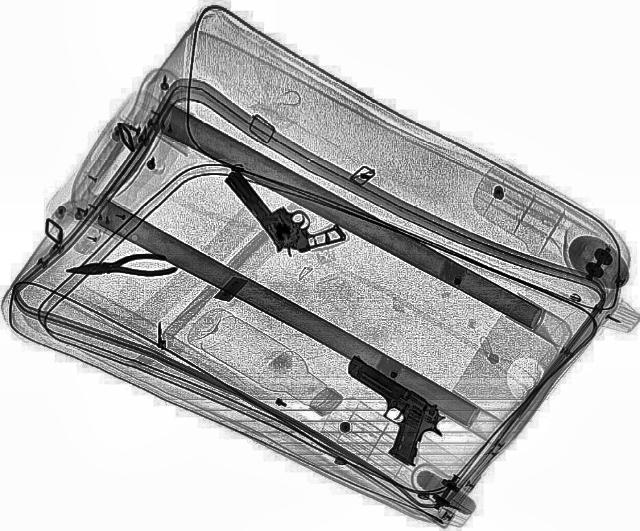Gun: (302, 354, 463, 470), (220, 150, 348, 264)
Pliers: (66, 251, 174, 282)
